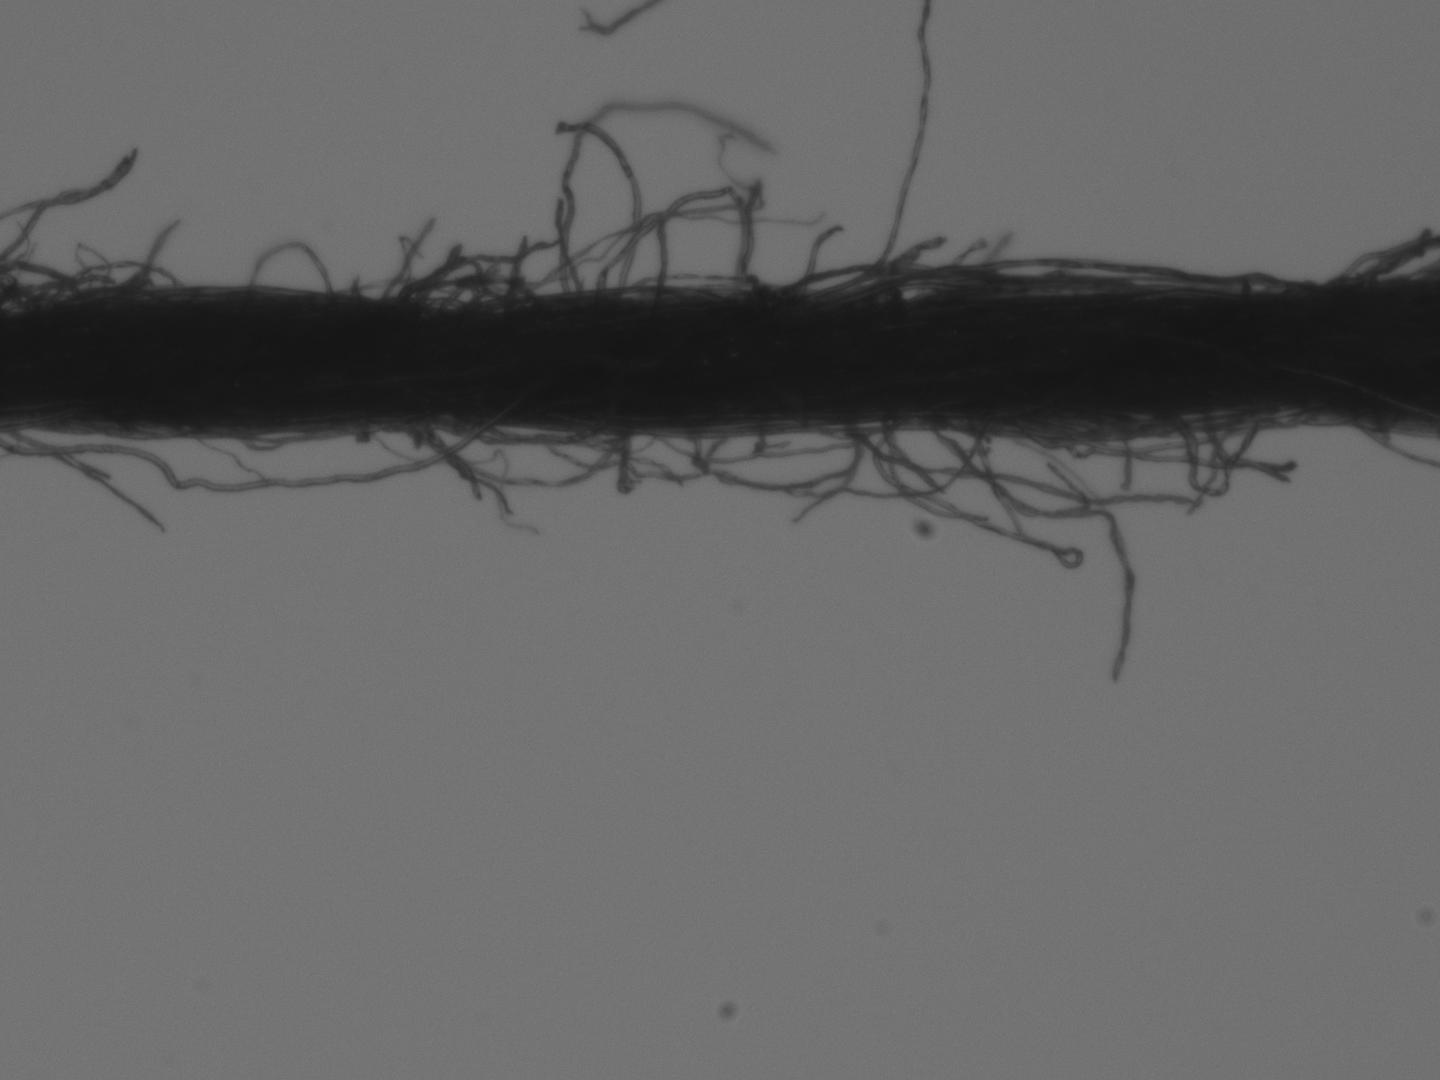loop_fiber: (838, 413, 1322, 503), (6, 423, 489, 493), (972, 412, 1219, 517), (424, 421, 624, 491), (395, 242, 578, 313), (653, 184, 754, 299), (686, 423, 852, 491), (1175, 414, 1231, 495), (446, 419, 602, 447), (251, 243, 327, 294)
protruding_fiber: (815, 3, 934, 305), (10, 424, 166, 533), (551, 118, 638, 290), (787, 421, 867, 526), (795, 220, 845, 301), (127, 219, 184, 288)
